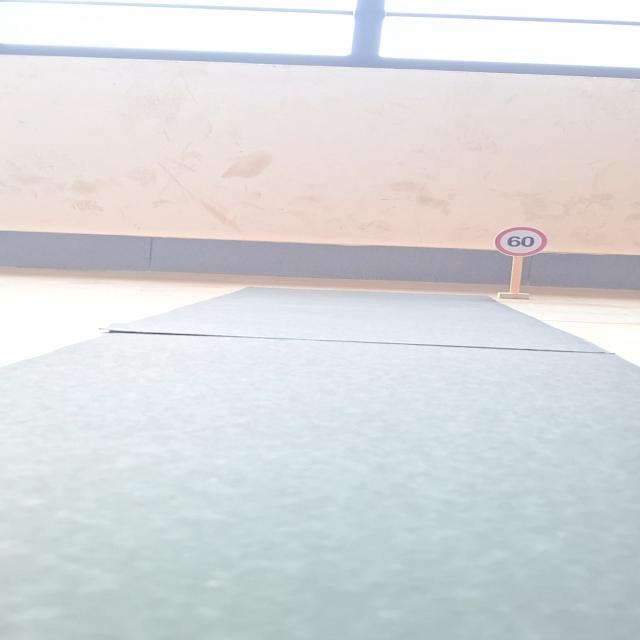Speed60: (492, 225, 550, 258)
